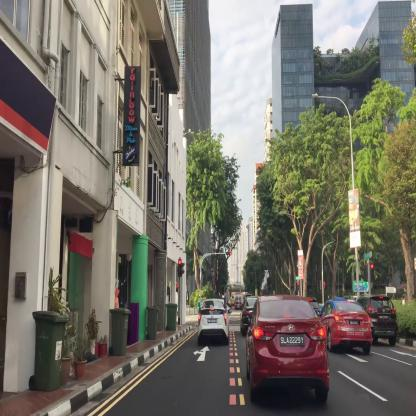red_traffic_light: (178, 258, 182, 277), (371, 264, 374, 282), (226, 251, 231, 254)
